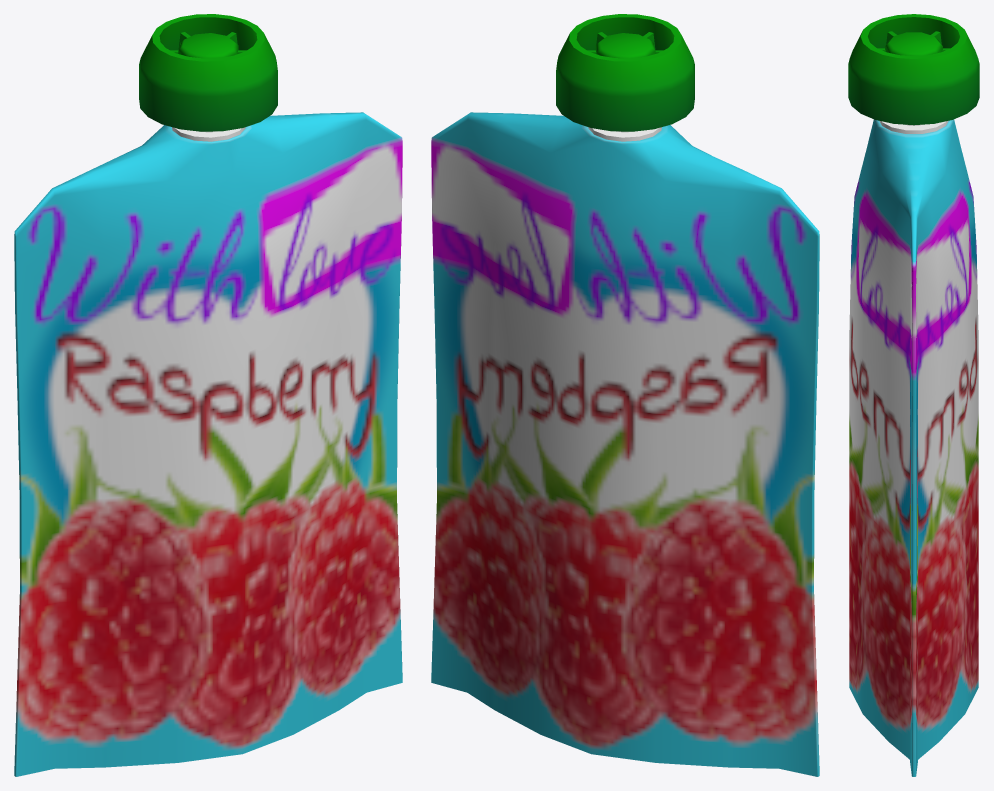
File: Fruit_pouch1.fbx
3 renders of one model, left to right at view 1: azimuth 30°, elevation 25°; view 2: azimuth 150°, elevation 25°; view 3: azimuth 270°, elevation 25°, orthographic. The views are drawn at different scales.
Visible parts, largest first — view 1: Fruit_pouch1; view 2: Fruit_pouch1; view 3: Fruit_pouch1.
Part boxes in pixels (x1,y1,x2,y2): Fruit_pouch1: (14, 14, 402, 776); Fruit_pouch1: (431, 14, 819, 776); Fruit_pouch1: (848, 14, 979, 776).
Bounding box in the file's own units: 13.41 × 22.87 × 4.19.
